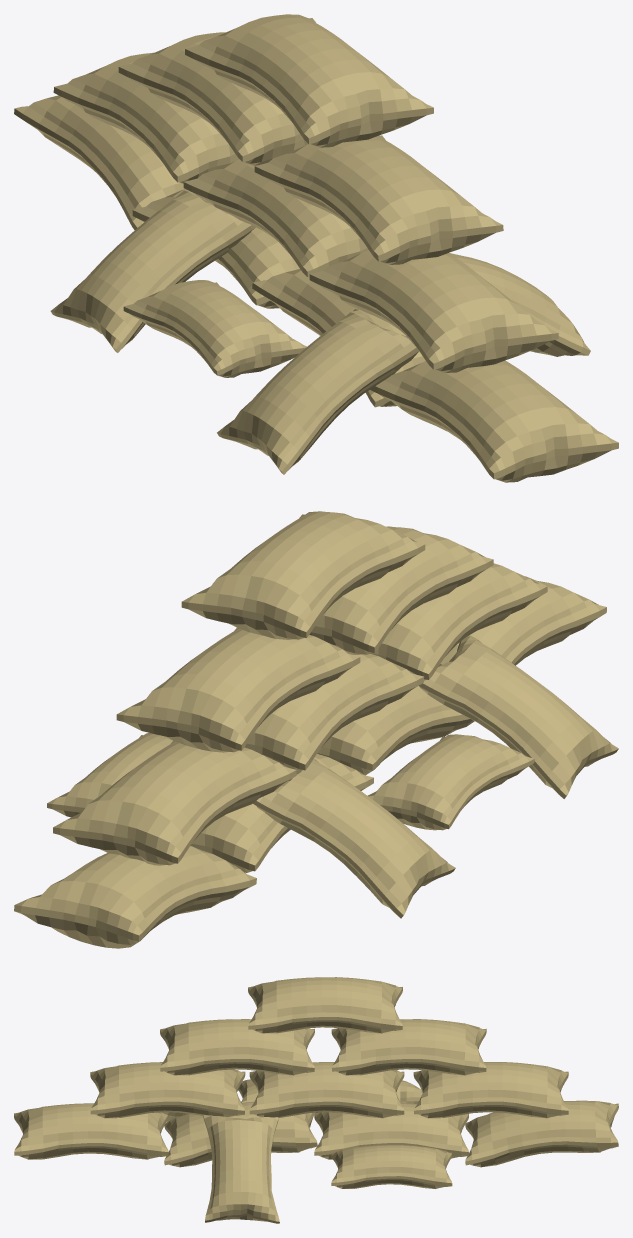
File: Sand Bag Tower.fbx
The picture shows the model from 3 angles, top to bottom: view 1: azimuth 30°, elevation 25°; view 2: azimuth 150°, elevation 25°; view 3: azimuth 270°, elevation 25°; orthographic projection. The views are drawn at different scales.
Parts seen in each view (by area): view 1: Plane.015; view 2: Plane.015; view 3: Plane.015.
Part boxes in pixels (x1,y1,x2,y2): Plane.015: [14, 14, 618, 482]; Plane.015: [14, 511, 618, 948]; Plane.015: [14, 977, 618, 1223].
Size of the model in its own units: 297 by 232 by 673.
